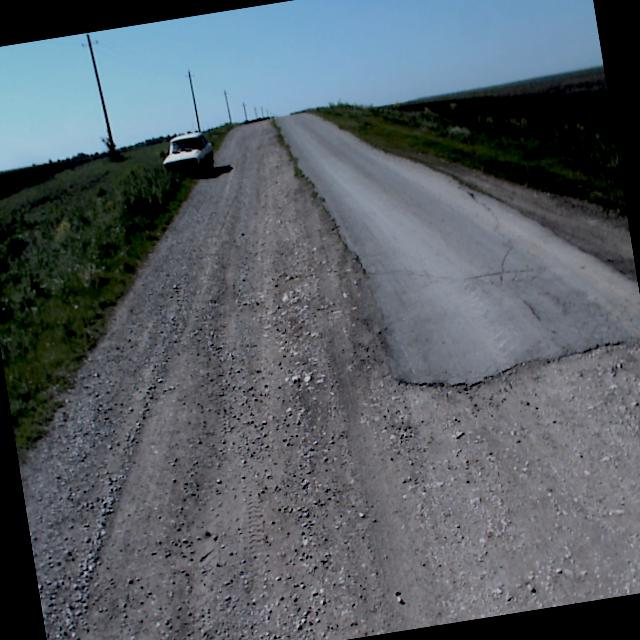road: (274, 113, 640, 387)
